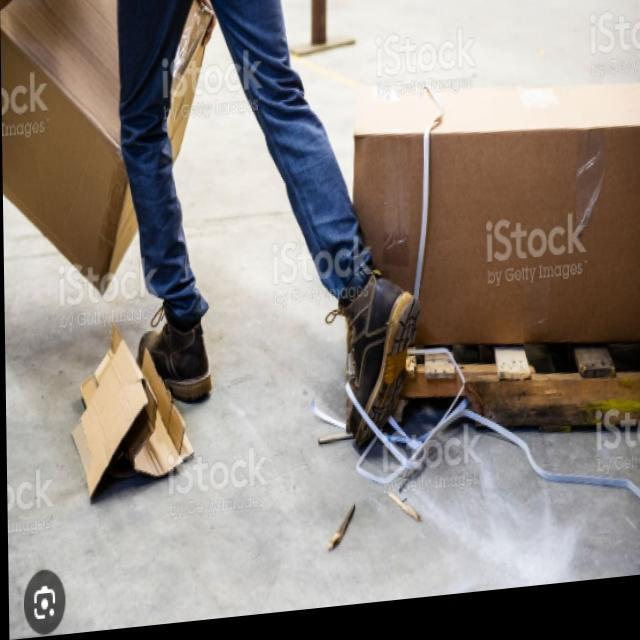boots: (130, 271, 419, 482)
